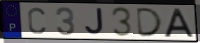3: (110, 6, 133, 38), (55, 6, 76, 36)
A: (162, 8, 196, 39)
C: (26, 6, 47, 35)
D: (136, 7, 165, 38)
J: (84, 7, 105, 36)
